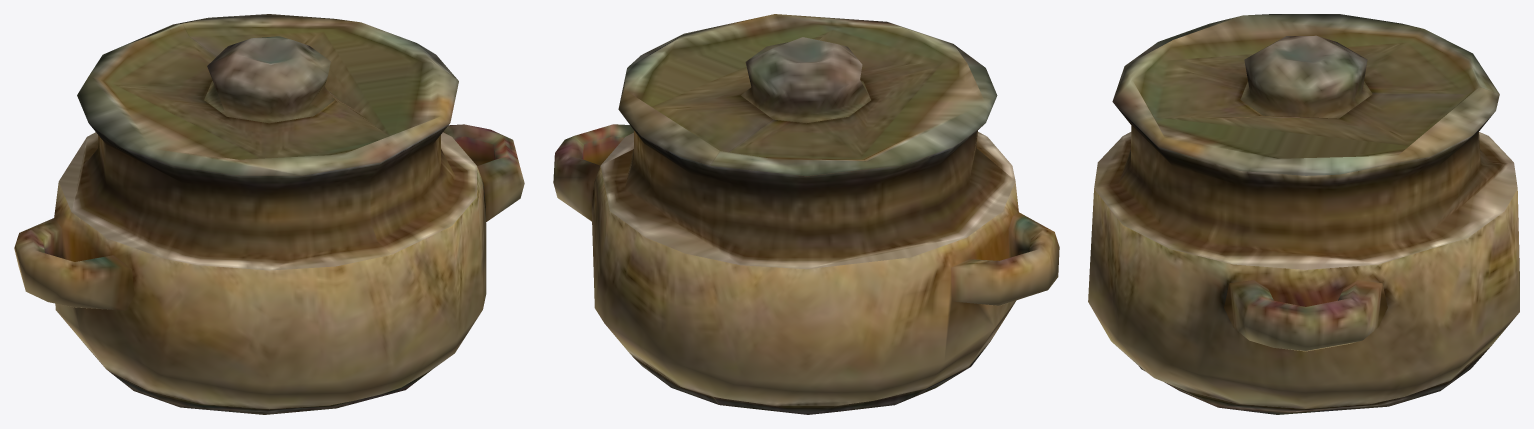
Rendered from jarre.glb.
3 views of the same model, side by side, from view 1: azimuth 30°, elevation 25°; view 2: azimuth 150°, elevation 25°; view 3: azimuth 270°, elevation 25° (orthographic).
Parts seen in each view (by area): view 1: ceramic_pot; view 2: ceramic_pot; view 3: ceramic_pot.
Part boxes in pixels (box(x1,y1,x2,y2)): ceramic_pot: box(14, 14, 524, 414); ceramic_pot: box(553, 14, 1059, 414); ceramic_pot: box(1088, 14, 1519, 414).
Size of the model in its own units: 0.6462 by 0.3717 by 0.4945.
1 material, 1 textured.
